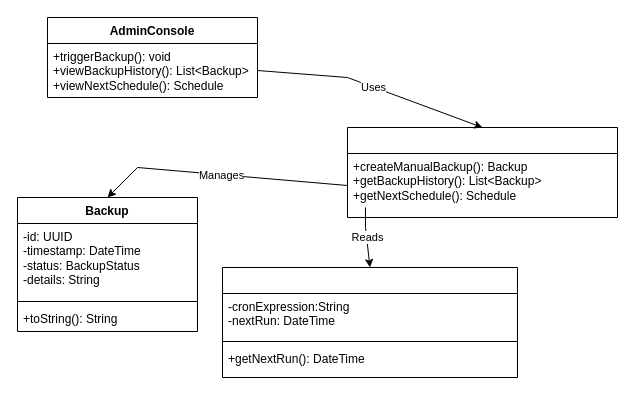
The diagram is 635 pixels wide and 398 high, and some of its shapes have lost their labels. The shapes that lost their labels are listed below. From the top down, each one's box as (x1, y1, x2, y2) in pixels, then its label:
(346, 126, 618, 218): BackupService
(222, 266, 518, 378): Schedule
